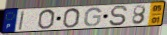8: (131, 5, 147, 25)
G: (83, 7, 103, 28)
I: (18, 10, 27, 31)
O: (62, 7, 82, 29), (37, 8, 57, 30)
S: (108, 5, 129, 27)
